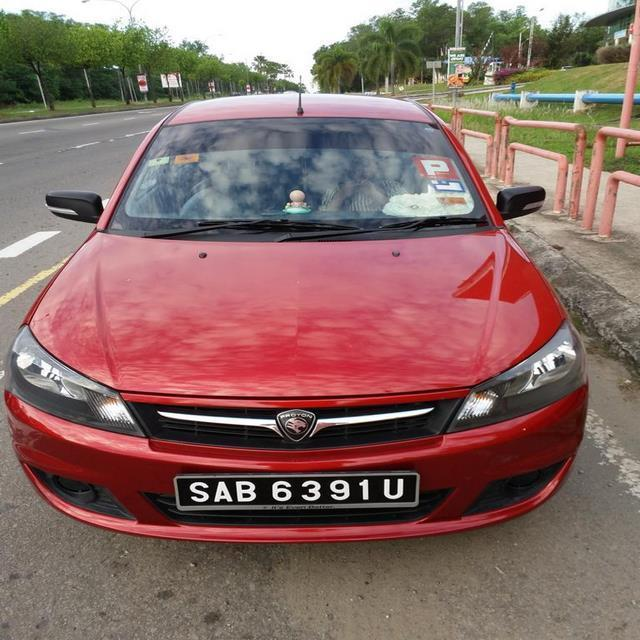License_Plate: (170, 469, 424, 518)
car: (4, 69, 598, 557)
